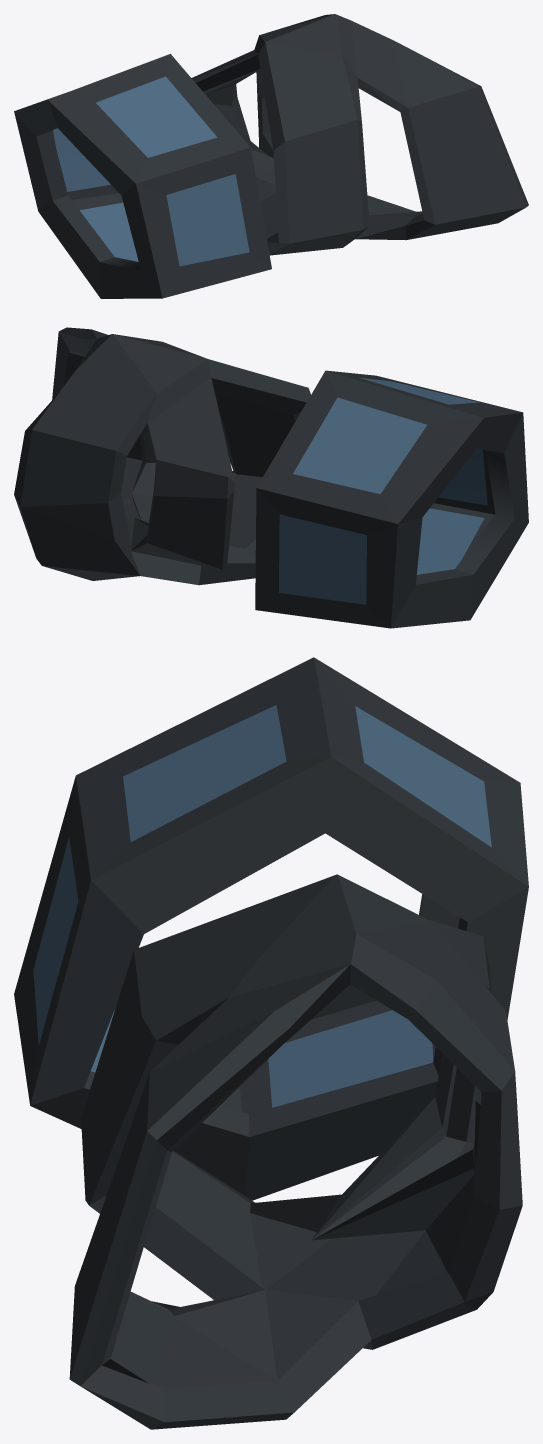
The model's file is Chr_ArmLowerRight_Female_13_Drop.fbx.
3 renders of one model, top to bottom at view 1: azimuth 30°, elevation 25°; view 2: azimuth 150°, elevation 25°; view 3: azimuth 270°, elevation 25°, orthographic. The views are drawn at different scales.
Parts seen in each view (by area): view 1: Chr_ArmLowerRight_Female_13_Static; view 2: Chr_ArmLowerRight_Female_13_Static; view 3: Chr_ArmLowerRight_Female_13_Static.
Part boxes in pixels (x1,y1,x2,y2): Chr_ArmLowerRight_Female_13_Static: (14,14,528,298); Chr_ArmLowerRight_Female_13_Static: (14,327,528,628); Chr_ArmLowerRight_Female_13_Static: (14,657,528,1429).
Size of the model in its own units: 15.44 by 7.79 by 8.3.
